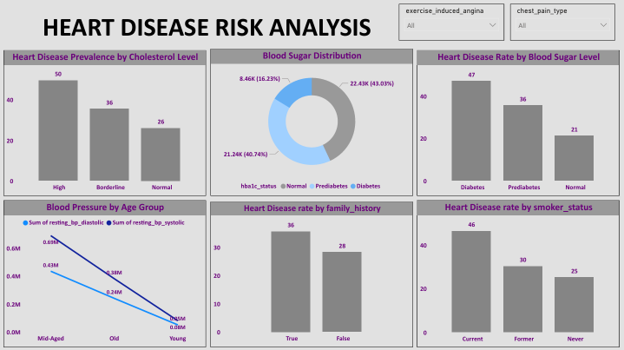

The dashboard page shown, as its layout file describes it:
{"tool":"powerbi","page":{"name":"Page 2","canvas":[1280,720],"ordinal":1},"visuals":[{"type":"donutChart","title":"Blood Sugar Distribution","fields":{"Category":["heart_disease_risk_2026_clean.hba1c_status"],"Y":["Sum(heart_disease_risk_2026_clean.hba1c)"]},"box":[431.9,100.1,415,300.4],"z":0},{"type":"lineChart","title":"Blood Pressure by Age Group","fields":{"Category":["heart_disease_risk_2026_clean.age_group"],"Y":["Sum(heart_disease_risk_2026_clean.resting_bp_diastolic)","Sum(heart_disease_risk_2026_clean.resting_bp_systolic)"]},"box":[8.4,410.2,415,300.4],"z":1000},{"type":"clusteredColumnChart","fields":{"Category":["heart_disease_risk_2026_clean.smoker_status"],"Y":["heart_disease_risk_2026_clean.Heart Disease rate"]},"box":[855.4,410.2,415,300.4],"z":2000},{"type":"clusteredColumnChart","fields":{"Category":["heart_disease_risk_2026_clean.family_history"],"Y":["heart_disease_risk_2026_clean.Heart Disease rate"]},"box":[431.9,412.6,415,298],"z":3000},{"type":"clusteredColumnChart","title":"Heart Disease Rate by Blood Sugar Level","fields":{"Y":["heart_disease_risk_2026_clean.Heart Disease rate"],"Category":["heart_disease_risk_2026_clean.hba1c_status"]},"box":[855.4,102.5,415,298],"z":4000},{"type":"clusteredColumnChart","title":"Heart Disease Prevalence by Cholesterol Level","fields":{"Category":["heart_disease_risk_2026_clean.total cholesterol status"],"Y":["heart_disease_risk_2026_clean.Heart Disease Prevalence"]},"box":[8.4,102.5,415,298],"z":5000},{"type":"textbox","box":[83.2,16.9,746.8,83.2],"z":6000},{"type":"slicer","fields":{"Values":["heart_disease_risk_2026_clean.chest_pain_type"]},"box":[1046,8.4,214.7,74.8],"z":7000},{"type":"slicer","fields":{"Values":["heart_disease_risk_2026_clean.exercise_induced_angina"]},"box":[818,8.4,216,74.8],"z":8000}]}

Visuals, with their boxes in screenshot pixels (x1, y1, x2, y2), scaled from the page's 1280x720 canvas onto the 624x350 screenshot:
"Blood Sugar Distribution" donutChart: x1=211 y1=49 x2=413 y2=195
"Blood Pressure by Age Group" lineChart: x1=4 y1=199 x2=206 y2=345
clusteredColumnChart - heart_disease_risk_2026_clean.smoker_status x heart_disease_risk_2026_clean.Heart Disease rate: x1=417 y1=199 x2=619 y2=345
clusteredColumnChart - heart_disease_risk_2026_clean.family_history x heart_disease_risk_2026_clean.Heart Disease rate: x1=211 y1=201 x2=413 y2=345
"Heart Disease Rate by Blood Sugar Level" clusteredColumnChart: x1=417 y1=50 x2=619 y2=195
"Heart Disease Prevalence by Cholesterol Level" clusteredColumnChart: x1=4 y1=50 x2=206 y2=195
textbox: x1=41 y1=8 x2=405 y2=49
slicer - heart_disease_risk_2026_clean.chest_pain_type: x1=510 y1=4 x2=615 y2=40
slicer - heart_disease_risk_2026_clean.exercise_induced_angina: x1=399 y1=4 x2=504 y2=40
